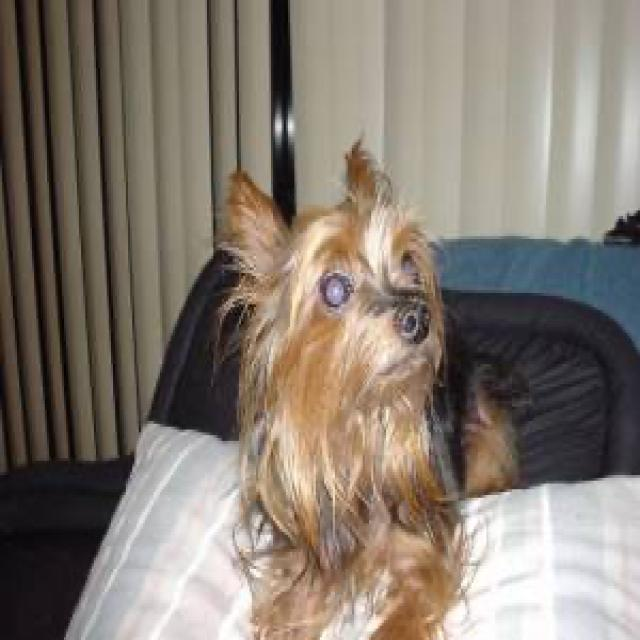dog: (226, 145, 442, 398)
